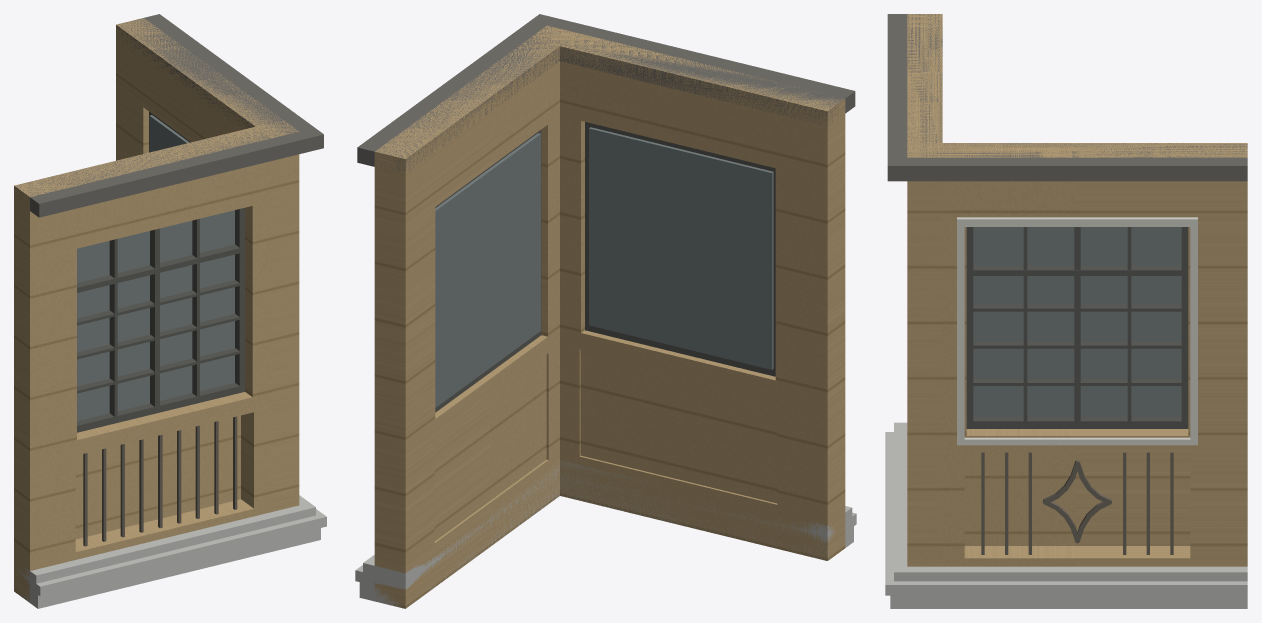
The model's file is yuyuan-1039-steel-corner-windows-far.glb.
The picture shows the model from 3 angles, left to right: view 1: azimuth 30°, elevation 25°; view 2: azimuth 150°, elevation 25°; view 3: azimuth 270°, elevation 25°; orthographic projection. The views are drawn at different scales.
Visible parts, largest first — view 1: 愚园路1039号住宅转角钢格窗与下槛铁花; view 2: 愚园路1039号住宅转角钢格窗与下槛铁花; view 3: 愚园路1039号住宅转角钢格窗与下槛铁花.
Part boxes in pixels (x1,y1,x2,y2): 愚园路1039号住宅转角钢格窗与下槛铁花: (14,14,326,608); 愚园路1039号住宅转角钢格窗与下槛铁花: (355,14,856,608); 愚园路1039号住宅转角钢格窗与下槛铁花: (885,14,1247,608).
Size of the model in its own units: 1.96 by 2.65 by 1.96.
7 materials, 1 textured.
